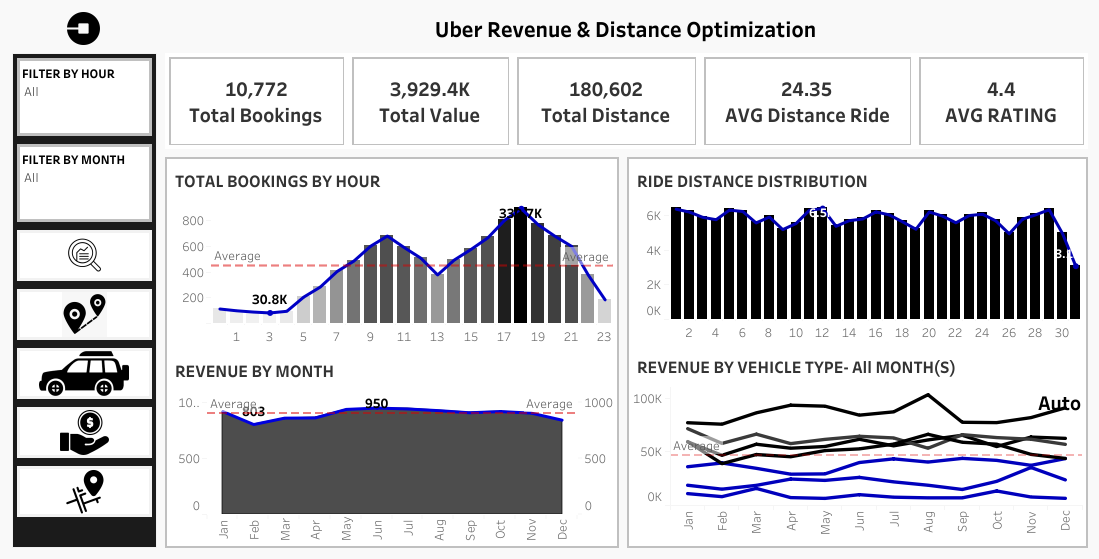

This screenshot's page, from the dashboard's own definition file:
{"tool":"tableau","page":{"name":"Dashboard 1","canvas":[1000,1000],"units":"permille","ordinal":4},"visuals":[{"type":"image","param":"Image/732135.png","box":[7.3,14.3,137.2,73.2]},{"type":"text","box":[144.5,14.3,848.2,73.2]},{"type":"worksheet","title":"BOOKINGS","mark":"Automatic","box":[149.9,94.6,166.4,171.4]},{"type":"worksheet","title":"VALUE","mark":"Automatic","box":[316.3,94.6,150,171.4]},{"type":"worksheet","title":"T DISTANCE","mark":"Automatic","box":[466.3,94.6,170,171.4]},{"type":"worksheet","title":"AVG DISTANCE","mark":"Automatic","box":[636.3,94.6,195.5,171.4]},{"type":"worksheet","title":"RATE","mark":"Automatic","box":[831.7,94.6,157.3,171.4]},{"type":"filter","title":"TOTAL BOOKINGS BY HOUR","param":"[federated.1l81sgm1ga9f4t1f7eivi04u2v70].[hr:Time:ok]","box":[11.8,96.4,129.9,144.7]},{"type":"filter","title":"T DISTANCE","param":"[federated.1l81sgm1ga9f4t1f7eivi04u2v70].[mn:Date:ok]","box":[11.8,241,129.9,144.7]},{"type":"worksheet","title":"TOTAL BOOKINGS BY HOUR","mark":"Bar","rows":["Calculation_0850476265771010","Calculation_0850476265771010"],"cols":["Time"],"box":[151.8,283.9,409.1,339.3]},{"type":"worksheet","title":"RIDE DISTANCE DISTRIBUTION","mark":"Bar","rows":["Ride Distance","Ride Distance"],"cols":["Date"],"box":[571.7,283.9,415.5,331.3]},{"type":"dashboard-object","box":[11.8,385.7,129.9,105.4]},{"type":"dashboard-object","box":[11.8,491,129.9,105.4]},{"type":"dashboard-object","box":[11.8,596.4,129.9,105.4]},{"type":"worksheet","title":"REVENUE BY VEHICLE TYPE-","mark":"Line","rows":["Booking Value"],"cols":["Date"],"box":[571.7,615.1,415.5,359.9]},{"type":"worksheet","title":"REVENUE BY MONTH","mark":"Automatic","rows":["Calculation_0850476265771010","Calculation_0850476265771010"],"cols":["Date"],"box":[151.8,623.2,409.1,351.8]},{"type":"dashboard-object","box":[11.8,701.8,129.9,105.4]},{"type":"dashboard-object","box":[11.8,807.1,129.9,105.4]}]}

Visuals, with their boxes on the dashboard's canvas, which has no fixed pixel size, in thousandths of its width and height (x1, y1, x2, y2). These are canvas units, not pixel positions in the 1099x559 screenshot, which may show the page scaled, cropped or inside an application window:
image: 7:14:144:88
text: 144:14:993:88
"BOOKINGS" worksheet: 150:95:316:266
"VALUE" worksheet: 316:95:466:266
"T DISTANCE" worksheet: 466:95:636:266
"AVG DISTANCE" worksheet: 636:95:832:266
"RATE" worksheet: 832:95:989:266
"TOTAL BOOKINGS BY HOUR" filter: 12:96:142:241
"T DISTANCE" filter: 12:241:142:386
"TOTAL BOOKINGS BY HOUR" worksheet (Bar marks): 152:284:561:623
"RIDE DISTANCE DISTRIBUTION" worksheet (Bar marks): 572:284:987:615
dashboard-object: 12:386:142:491
dashboard-object: 12:491:142:596
dashboard-object: 12:596:142:702
"REVENUE BY VEHICLE TYPE-" worksheet (Line marks): 572:615:987:975
"REVENUE BY MONTH" worksheet: 152:623:561:975
dashboard-object: 12:702:142:807
dashboard-object: 12:807:142:912
